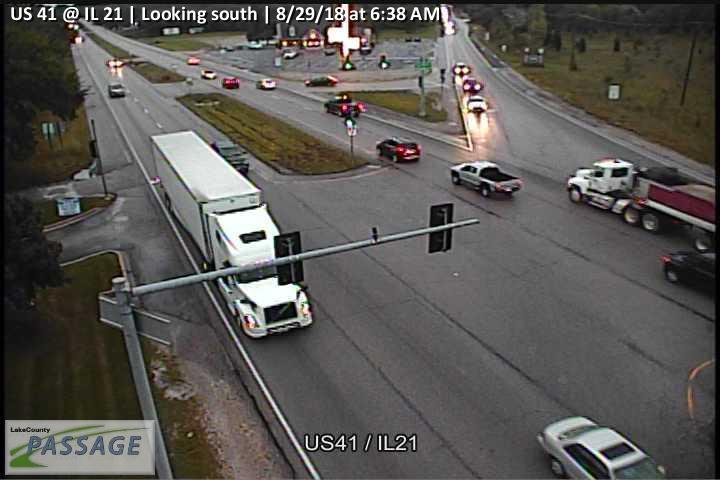SUV: (211, 138, 250, 177), (374, 135, 422, 165), (107, 82, 127, 98), (282, 47, 299, 60)
Sedan: (535, 414, 668, 480), (661, 251, 718, 301), (324, 94, 367, 120), (306, 74, 338, 87), (452, 60, 472, 77), (462, 77, 483, 93), (222, 74, 240, 89), (256, 78, 276, 90), (200, 68, 218, 81), (104, 57, 122, 67), (186, 55, 201, 66)
Truck: (149, 128, 315, 340), (565, 154, 716, 252), (450, 159, 523, 197), (466, 95, 488, 113)
